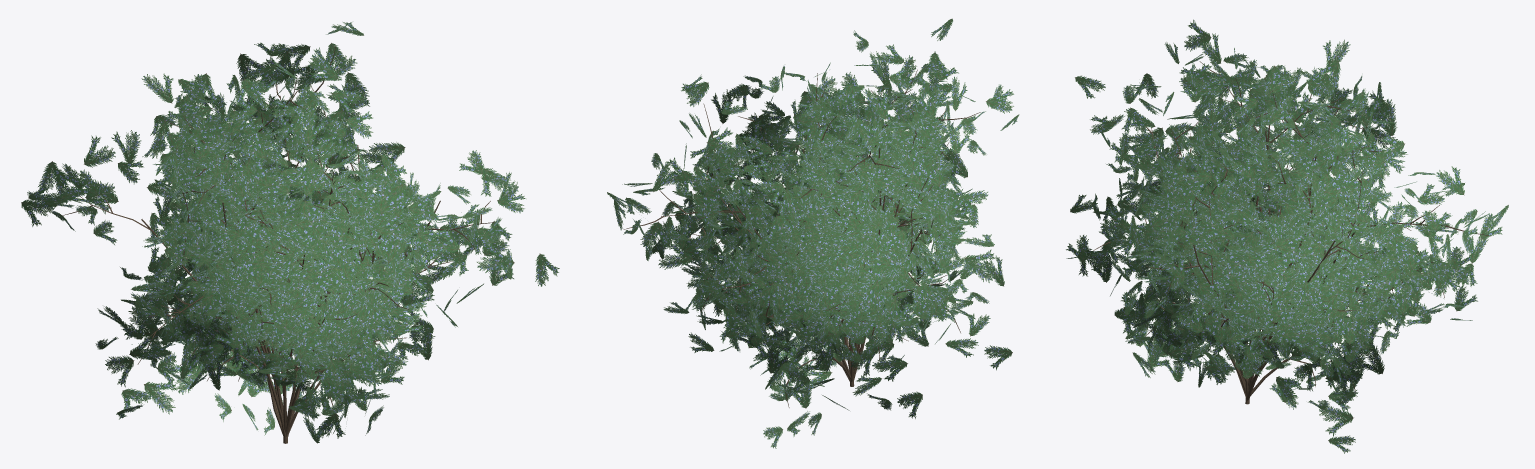
The model's file is RM2_Rosemary_UprightBush_1.3m.glb.
The picture shows the model from 3 angles, left to right: view 1: azimuth 30°, elevation 25°; view 2: azimuth 150°, elevation 25°; view 3: azimuth 270°, elevation 25°; orthographic projection. The views are drawn at different scales.
Parts seen in each view (by area): view 1: RM2_leaves, RM2_wood; view 2: RM2_leaves, RM2_wood; view 3: RM2_leaves, RM2_wood.
Part boxes in pixels (x1,y1,x2,y2): RM2_leaves: (21, 22, 559, 443); RM2_wood: (62, 46, 493, 443); RM2_leaves: (607, 18, 1019, 448); RM2_wood: (623, 69, 980, 407); RM2_leaves: (1066, 19, 1508, 453); RM2_wood: (1093, 61, 1490, 404).
Bounding box in the file's own units: 1.52 × 1.44 × 1.54.
2 materials, 2 textured.
